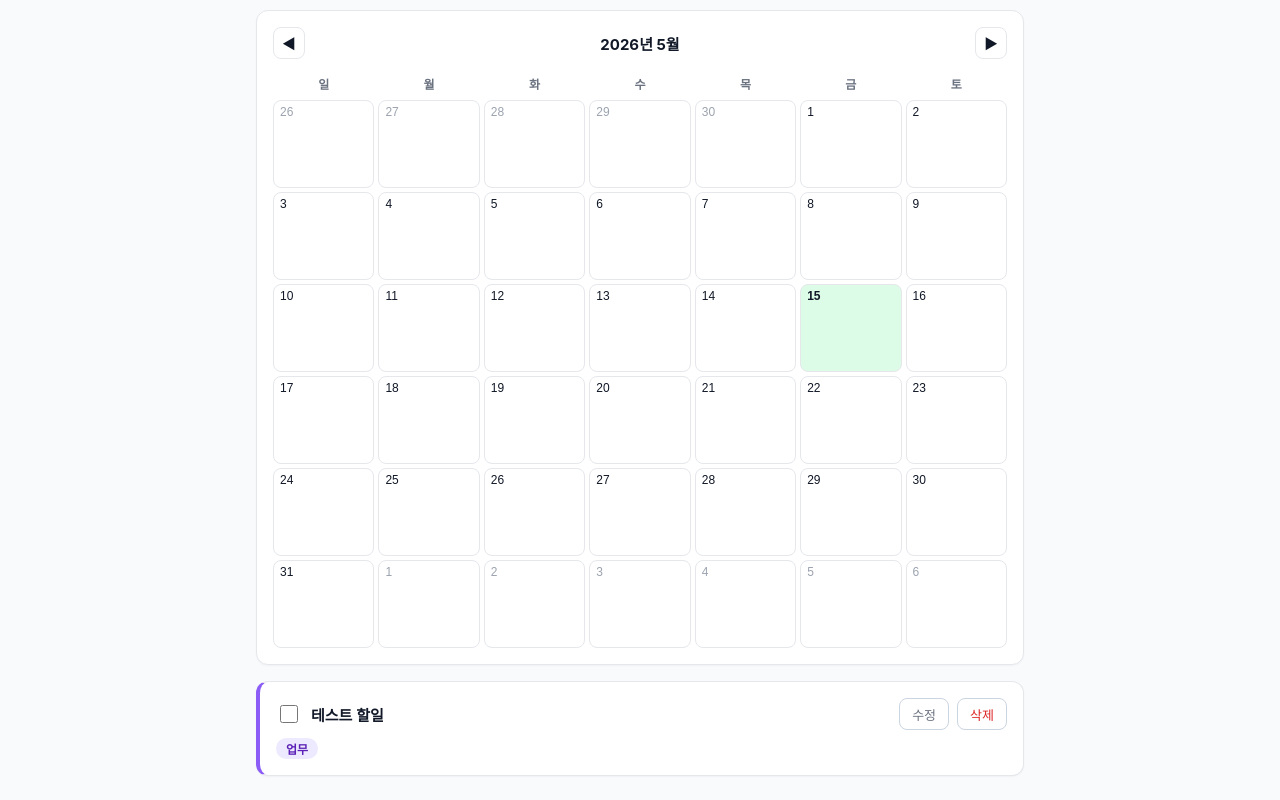
it: TodoListPage interactions › 수정 버튼 클릭 → 모달("할일 수정")이 todo 데이터로 열린다
The image size is (1280, 800).
(page scrolled)
Expected: the text "테스트 할일" is shown, left=311, top=706, right=384, bottom=724
Step 1. Click the button "수정" → [924, 714], box left=899, top=698, right=949, bottom=730
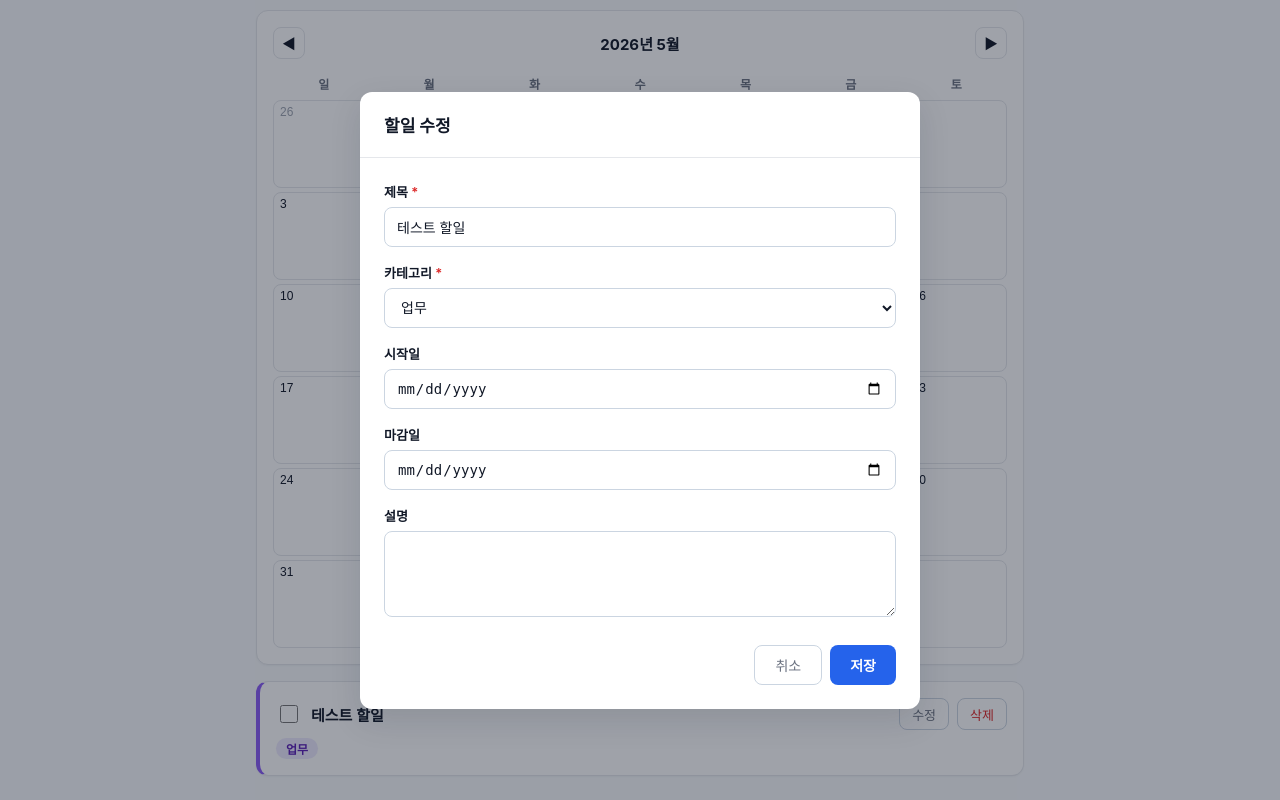
Expected: the dialog is shown, left=360, top=92, right=920, bottom=708
Expected: the heading "할일 수정" is shown, left=384, top=116, right=451, bottom=136
Expected: the field labelled "제목 *" holds "테스트 할일", left=384, top=206, right=896, bottom=246
